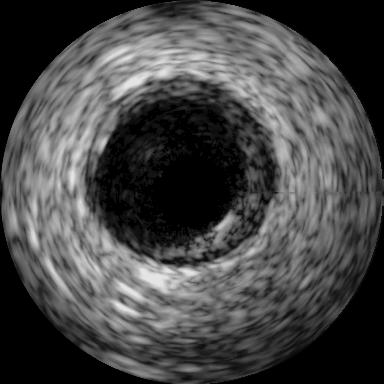Lumen: (153, 150, 230, 227)
